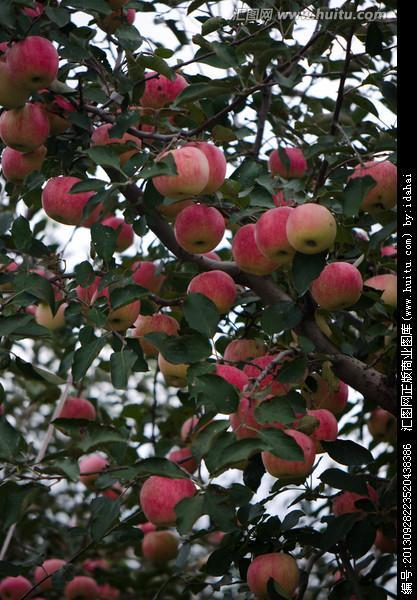apple: (139, 470, 199, 525), (261, 427, 317, 485), (344, 156, 395, 215), (7, 37, 60, 92), (138, 65, 192, 118), (172, 203, 225, 255), (1, 103, 58, 151), (246, 552, 304, 599), (308, 260, 362, 310), (285, 202, 336, 254), (153, 149, 208, 196), (40, 175, 89, 227), (229, 225, 279, 275), (184, 270, 237, 314), (93, 282, 141, 329), (256, 204, 292, 260), (1, 151, 49, 183), (266, 147, 305, 179)
